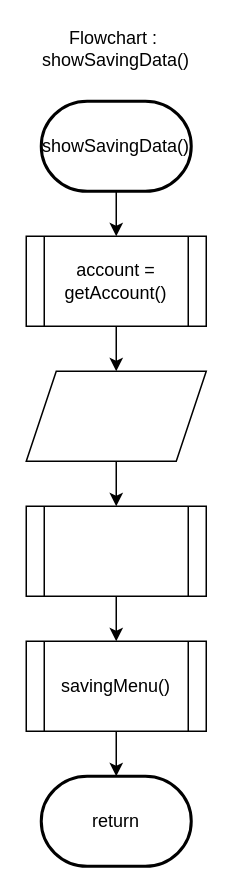
Some shapes in this 233 by 893 pixel diagram are drawn without their labels. The box of each missing label's shape, as (x1, y1, x2, y2) in pixels:
addHistory (account[0],msg): (25, 505, 206, 596)
output "jumlah tabungan" +account[3]: (25, 370, 206, 461)
